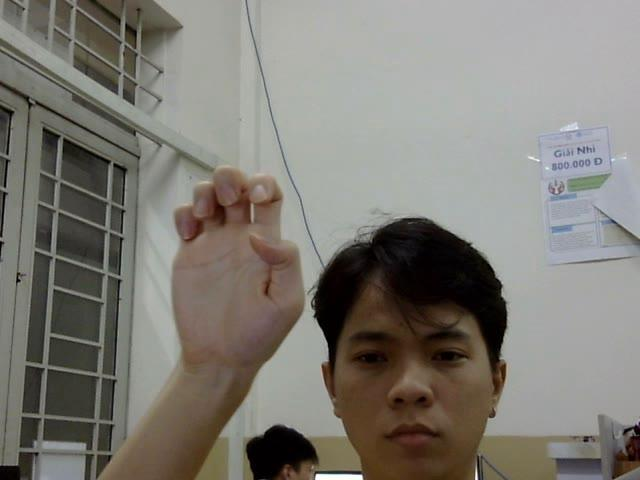E: (169, 163, 304, 364)
